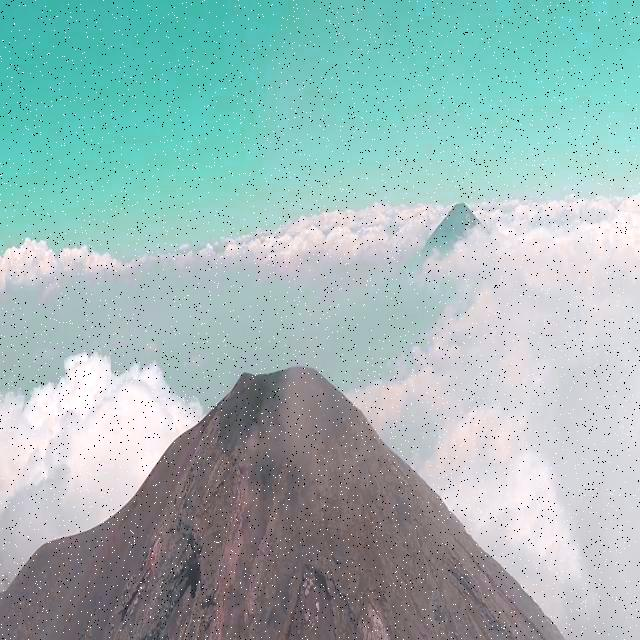Summit: (1, 351, 571, 640)
